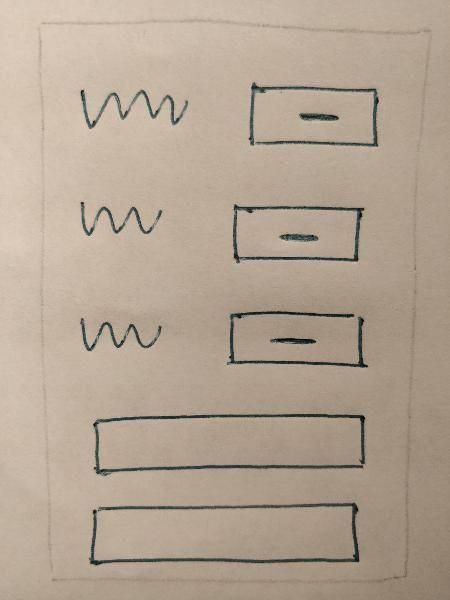button: (234, 72, 389, 161), (226, 302, 376, 381), (225, 196, 370, 272)
text: (79, 75, 195, 139), (75, 301, 168, 367), (71, 193, 165, 249)
text_input: (85, 406, 373, 483), (85, 499, 363, 568)
